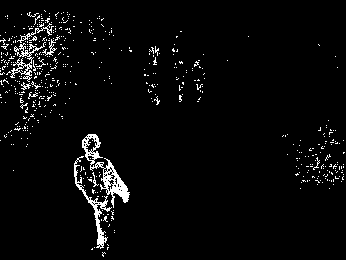person: (73, 133, 130, 260)
